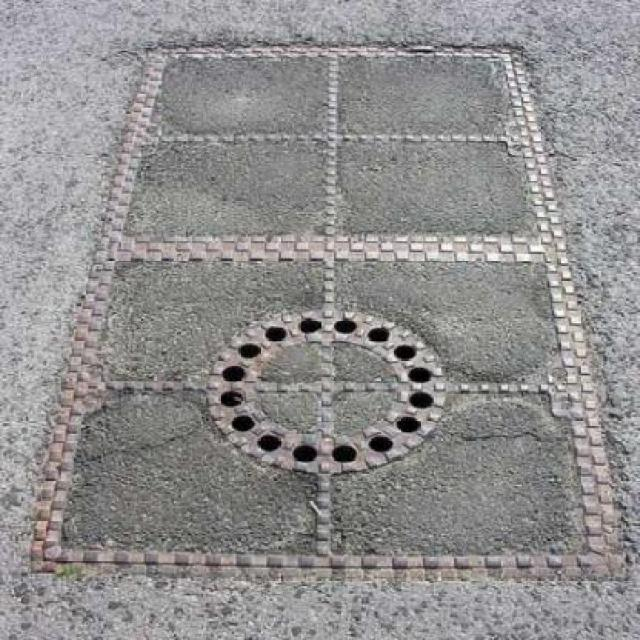Manhole: (192, 292, 470, 486)
